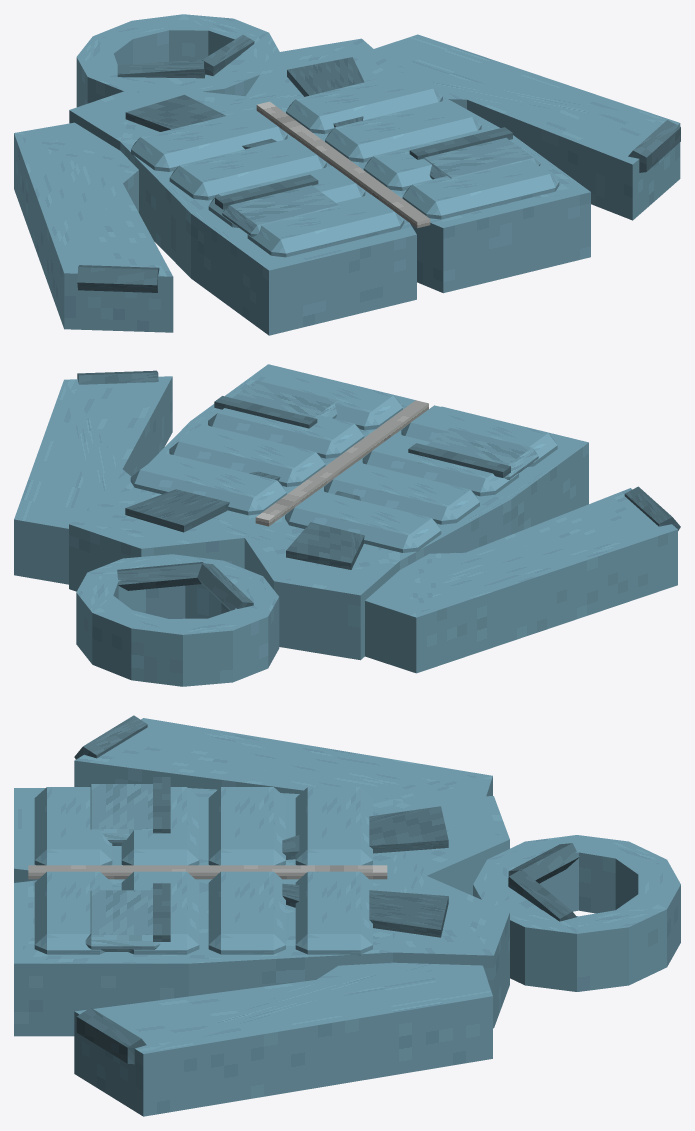
File: ski_jacket.glb
3 renders of one model, top to bottom at view 1: azimuth 30°, elevation 25°; view 2: azimuth 150°, elevation 25°; view 3: azimuth 270°, elevation 25°, orthographic. The views are drawn at different scales.
Parts seen in each view (by area): view 1: block_coat body, block_sleeve (×2), block_quilted insulation (×8), block_hood, block_patch pocket (×2), block_lapel (×2), block_cuff 0 (×2), block_zipper track, block_pocket welt (×2), block_hood facing 0, block_hood facing 1; view 2: block_sleeve (×2), block_quilted insulation (×8), block_coat body, block_hood, block_lapel (×2), block_patch pocket (×2), block_zipper track, block_pocket welt (×2), block_cuff 0 (×2), block_hood facing 1, block_hood facing 0; view 3: block_sleeve (×2), block_quilted insulation (×8), block_coat body, block_hood, block_patch pocket (×2), block_lapel (×2), block_zipper track, block_cuff 0 (×2), block_pocket welt (×2), block_hood facing 1, block_hood facing 0.
Part boxes in pixels (box(x1,y1,x2,y2)): block_coat body: box(69, 38, 590, 335); block_sleeve (×2): box(14, 34, 680, 332); block_quilted insulation (×8): box(131, 71, 559, 257); block_hood: box(76, 14, 279, 107); block_patch pocket (×2): box(222, 137, 540, 236); block_lapel (×2): box(125, 57, 364, 149); block_cuff 0 (×2): box(77, 120, 680, 292); block_zipper track: box(256, 101, 430, 228); block_pocket welt (×2): box(215, 127, 512, 209); block_hood facing 0: box(117, 59, 205, 78); block_hood facing 1: box(202, 35, 254, 75); block_sleeve (×2): box(14, 376, 677, 673); block_quilted insulation (×8): box(130, 367, 557, 552); block_coat body: box(69, 364, 588, 660); block_hood: box(76, 554, 279, 686); block_lapel (×2): box(125, 471, 364, 569); block_patch pocket (×2): box(232, 380, 538, 479); block_zipper track: box(255, 400, 428, 526); block_pocket welt (×2): box(214, 396, 510, 477); block_cuff 0 (×2): box(77, 370, 680, 530); block_hood facing 1: box(117, 562, 203, 590); block_hood facing 0: box(197, 563, 253, 610); block_sleeve (×2): box(74, 718, 492, 1116); block_quilted insulation (×8): box(34, 787, 372, 955); block_coat body: box(14, 788, 509, 1036); block_hood: box(473, 835, 680, 991); block_patch pocket (×2): box(85, 784, 160, 951); block_lapel (×2): box(282, 806, 448, 937); block_zipper track: box(28, 865, 387, 879); block_cuff 0 (×2): box(74, 715, 147, 1064); block_pocket welt (×2): box(153, 777, 170, 941); block_hood facing 1: box(508, 869, 576, 921); block_hood facing 0: box(508, 843, 579, 883).
Bounding box in the file's own units: 0.8122 × 0.1042 × 0.681.
Materials: 1 (1 with a texture image).
